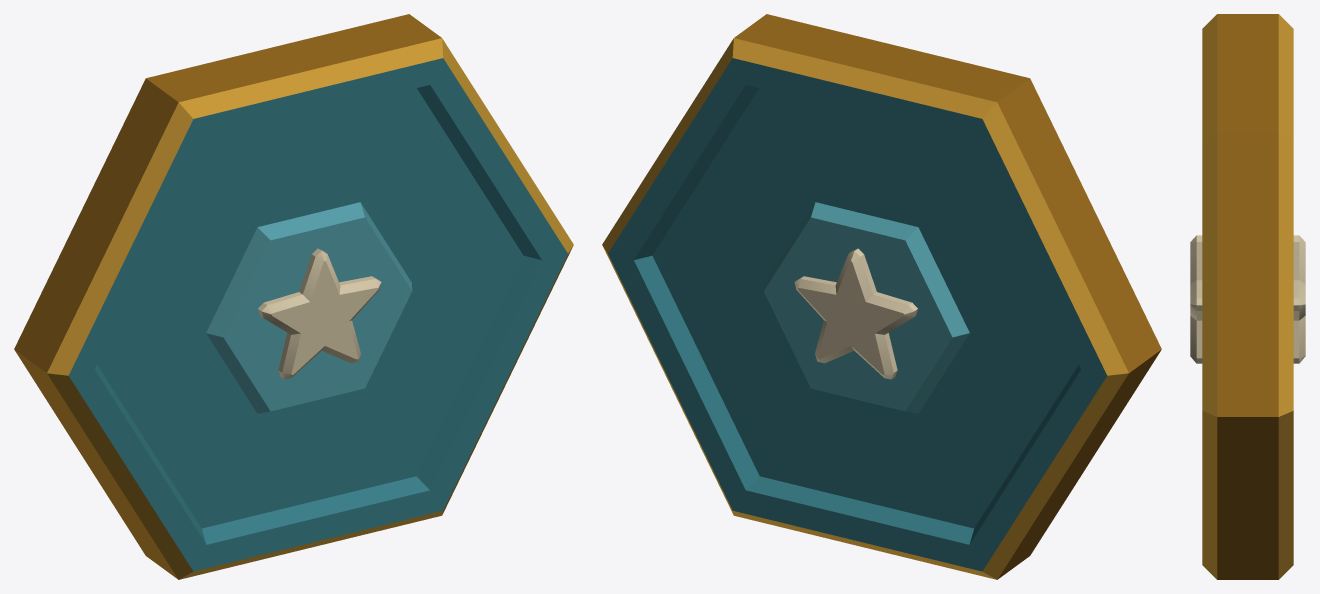
The model's file is Coin_16.glb.
The picture shows the model from 3 angles, left to right: view 1: azimuth 30°, elevation 25°; view 2: azimuth 150°, elevation 25°; view 3: azimuth 270°, elevation 25°; orthographic projection. The views are drawn at different scales.
Visible parts, largest first — view 1: Coin_16; view 2: Coin_16; view 3: Coin_16.
Boxes of the visible parts, bbox=[...] form: Coin_16: bbox=[14, 14, 573, 579]; Coin_16: bbox=[602, 14, 1161, 579]; Coin_16: bbox=[1190, 14, 1305, 579].
Size of the model in its own units: 1.72 by 1.49 by 0.35.
